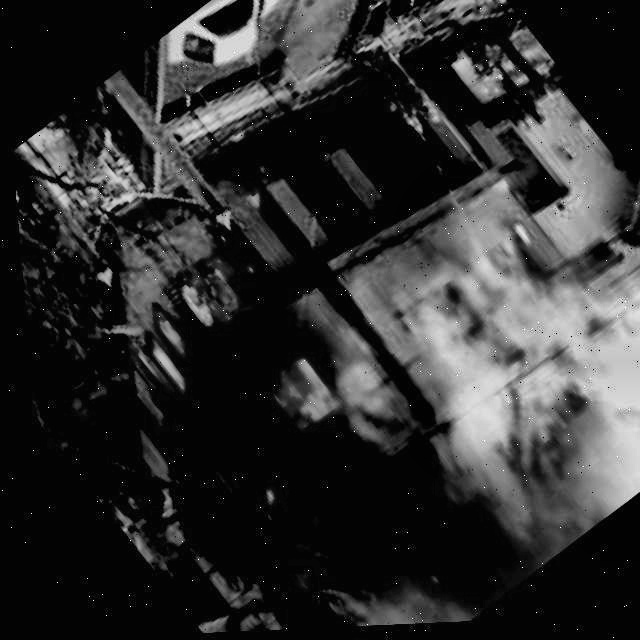Fire: (56, 162, 442, 565)
Smoke: (276, 295, 640, 631), (348, 172, 640, 447)
